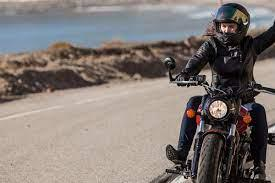motorcycle: (157, 51, 275, 183)
